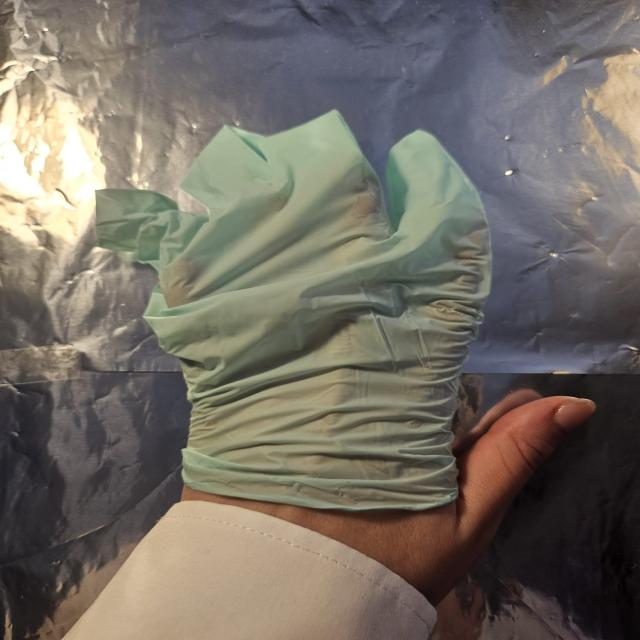glove_partial: (92, 109, 597, 609)
